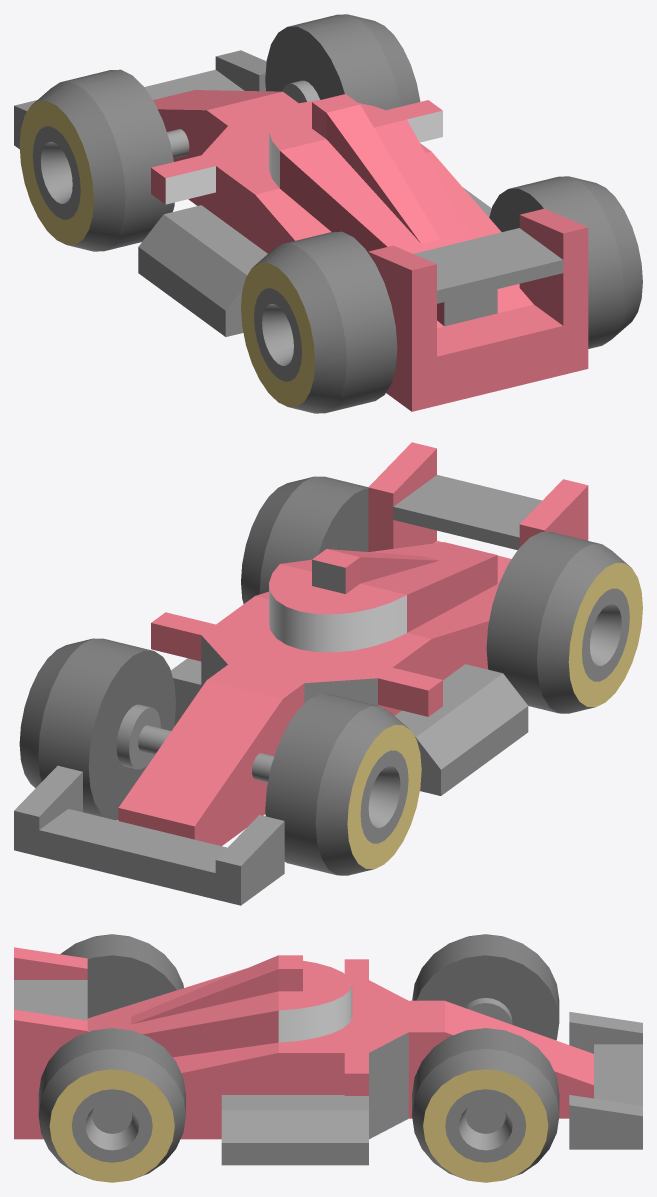
File: Car.gltf
3 views of the same model, one above another, from view 1: azimuth 30°, elevation 25°; view 2: azimuth 150°, elevation 25°; view 3: azimuth 270°, elevation 25° (orthographic). The views are drawn at different scales.
Visible parts, largest first — view 1: body, wheel_backLeft, wheel_frontLeft, wheel_backRight, wheel_frontRight; view 2: body, wheel_frontLeft, wheel_backLeft, wheel_frontRight, wheel_backRight; view 3: body, wheel_backRight, wheel_frontRight, wheel_frontLeft, wheel_backLeft.
Boxes of the visible parts, x1=… form: body: x1=14, y1=50, x2=588, y2=411; wheel_backLeft: x1=241, y1=231, x2=397, y2=413; wheel_frontLeft: x1=19, y1=69, x2=174, y2=251; wheel_backRight: x1=489, y1=176, x2=642, y2=348; wheel_frontRight: x1=265, y1=14, x2=420, y2=110; body: x1=14, y1=442, x2=588, y2=905; wheel_frontLeft: x1=265, y1=694, x2=421, y2=875; wheel_backLeft: x1=486, y1=532, x2=642, y2=713; wheel_frontRight: x1=19, y1=638, x2=175, y2=820; wheel_backRight: x1=241, y1=476, x2=368, y2=603; body: x1=14, y1=947, x2=642, y2=1165; wheel_backRight: x1=38, y1=1028, x2=185, y2=1182; wheel_frontRight: x1=412, y1=1028, x2=559, y2=1182; wheel_frontLeft: x1=412, y1=934, x2=559, y2=1040; wheel_backLeft: x1=60, y1=934, x2=183, y2=1018.
Size of the model in its own units: 1.3 by 0.7325 by 2.56.
